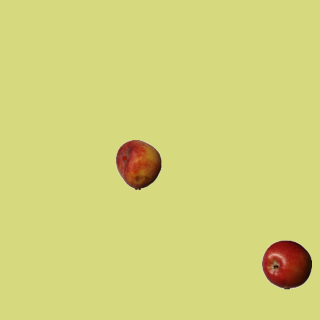Apple Braeburn: (261, 239, 311, 289)
Peach: (113, 139, 163, 189)
